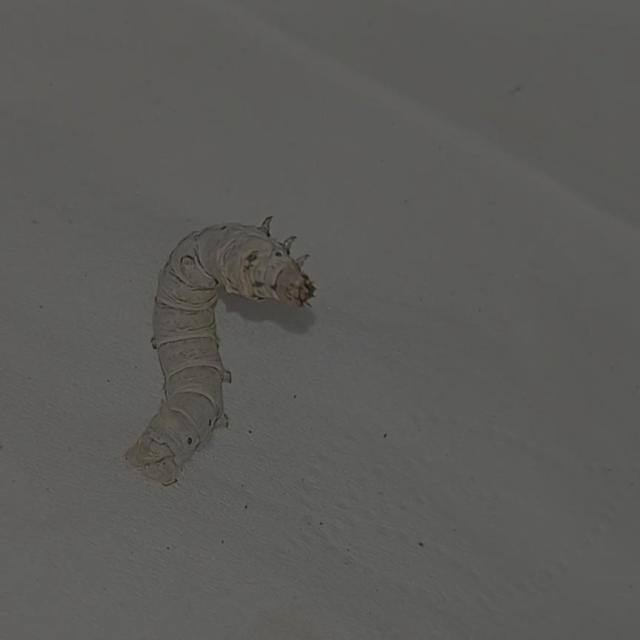Healthy: (110, 200, 336, 508)
